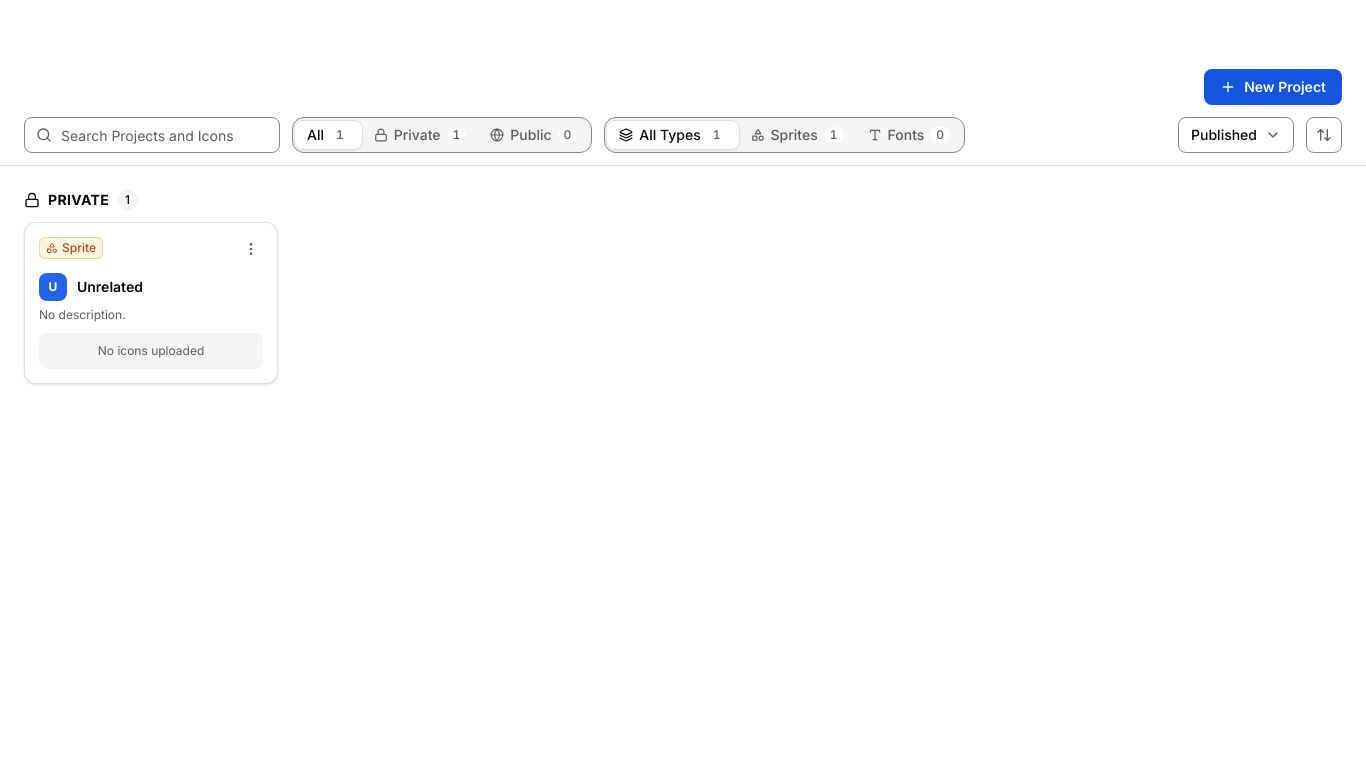
search › shows only projects whose name contains the search, with their count
The width and height of the screenshot is (1366, 768).
Expected: the heading "Unrelated" is shown, [77, 278, 143, 295]
Type "volt" into the search field at (152, 135), box [24, 117, 280, 153]
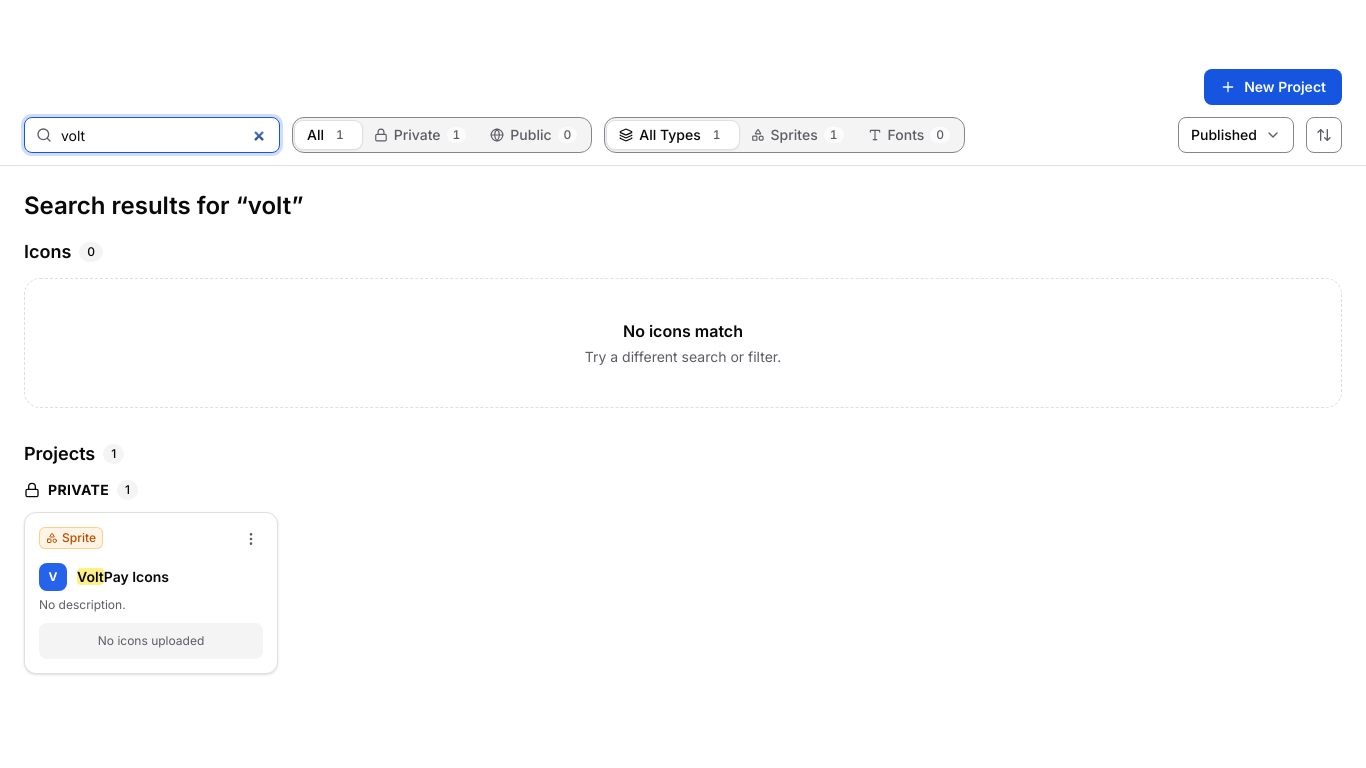
Now the heading "Projects 1" is shown, box [24, 443, 124, 464]
Now the link reads "VoltPay Icons", box [77, 568, 169, 585]
Now the link "Unrelated" is gone
